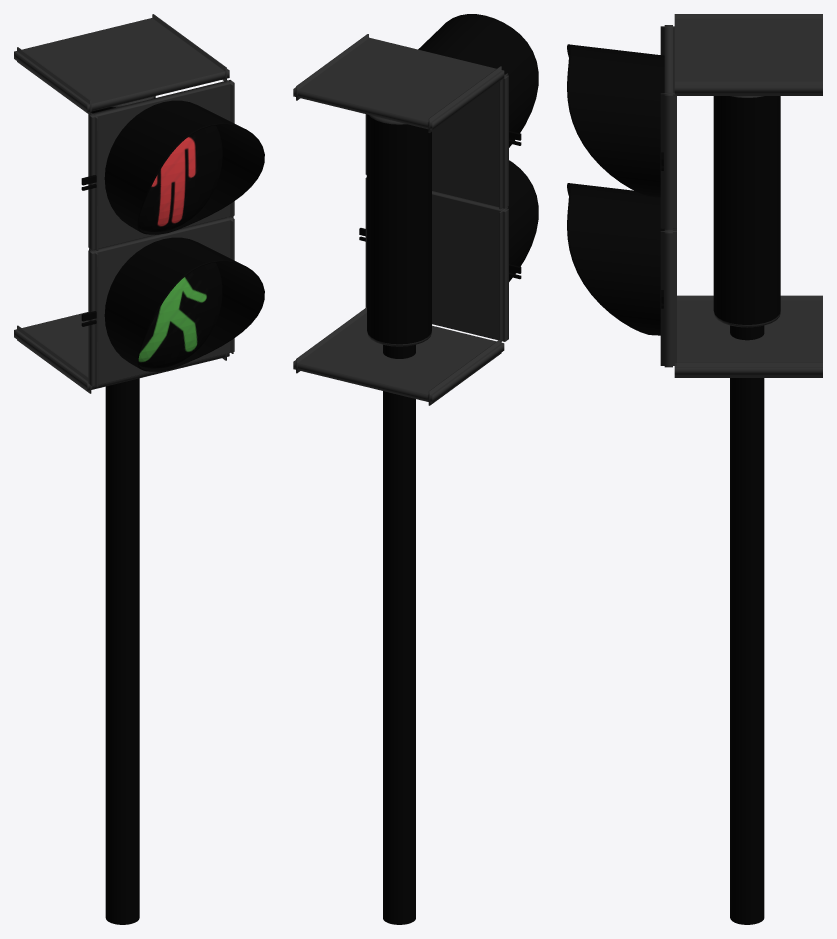
Rendered from Pedestrian Light.fbx.
3 views of the same model, side by side, from view 1: azimuth 30°, elevation 25°; view 2: azimuth 150°, elevation 25°; view 3: azimuth 270°, elevation 25° (orthographic). The views are drawn at different scales.
Visible parts, largest first — view 1: Lights_LOD0, Pole; view 2: Pole, Lights_LOD0; view 3: Pole, Lights_LOD0.
Part boxes in pixels (box(x1,y1,x2,y2)): Lights_LOD0: box(81, 80, 264, 386); Pole: box(14, 14, 229, 924); Pole: box(293, 34, 504, 924); Lights_LOD0: box(359, 14, 538, 342); Pole: box(674, 14, 822, 924); Lights_LOD0: box(567, 25, 676, 367).
Size of what is drawn, in the model's own units: 67.31 by 337 by 89.84.
